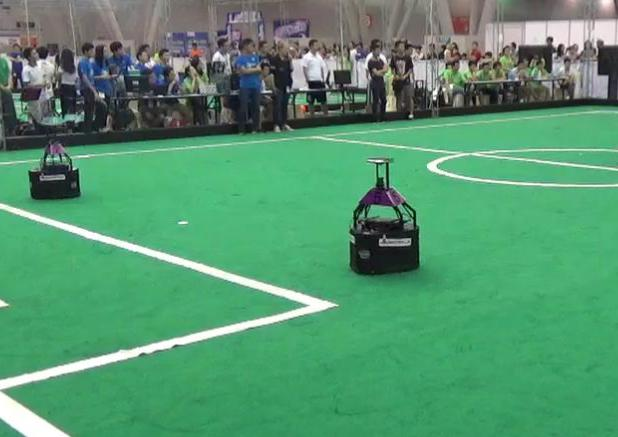robot: (346, 155, 422, 276), (25, 122, 86, 201)
